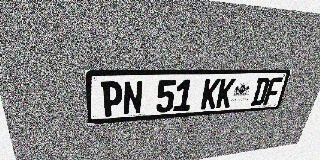1: (173, 79, 194, 111)
5: (156, 80, 176, 113)
D: (250, 78, 271, 106)
F: (263, 77, 283, 105)
K: (200, 79, 221, 109), (215, 78, 236, 108)
N: (123, 80, 143, 115)
P: (101, 81, 122, 117)
